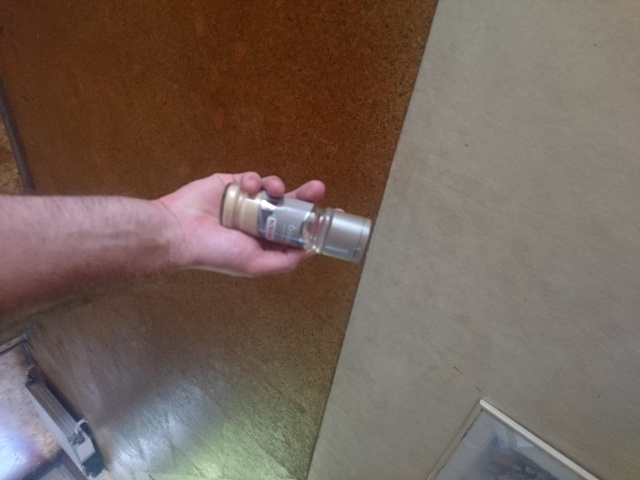Kotanyi Garlic Granules 70g: (216, 179, 374, 265)
